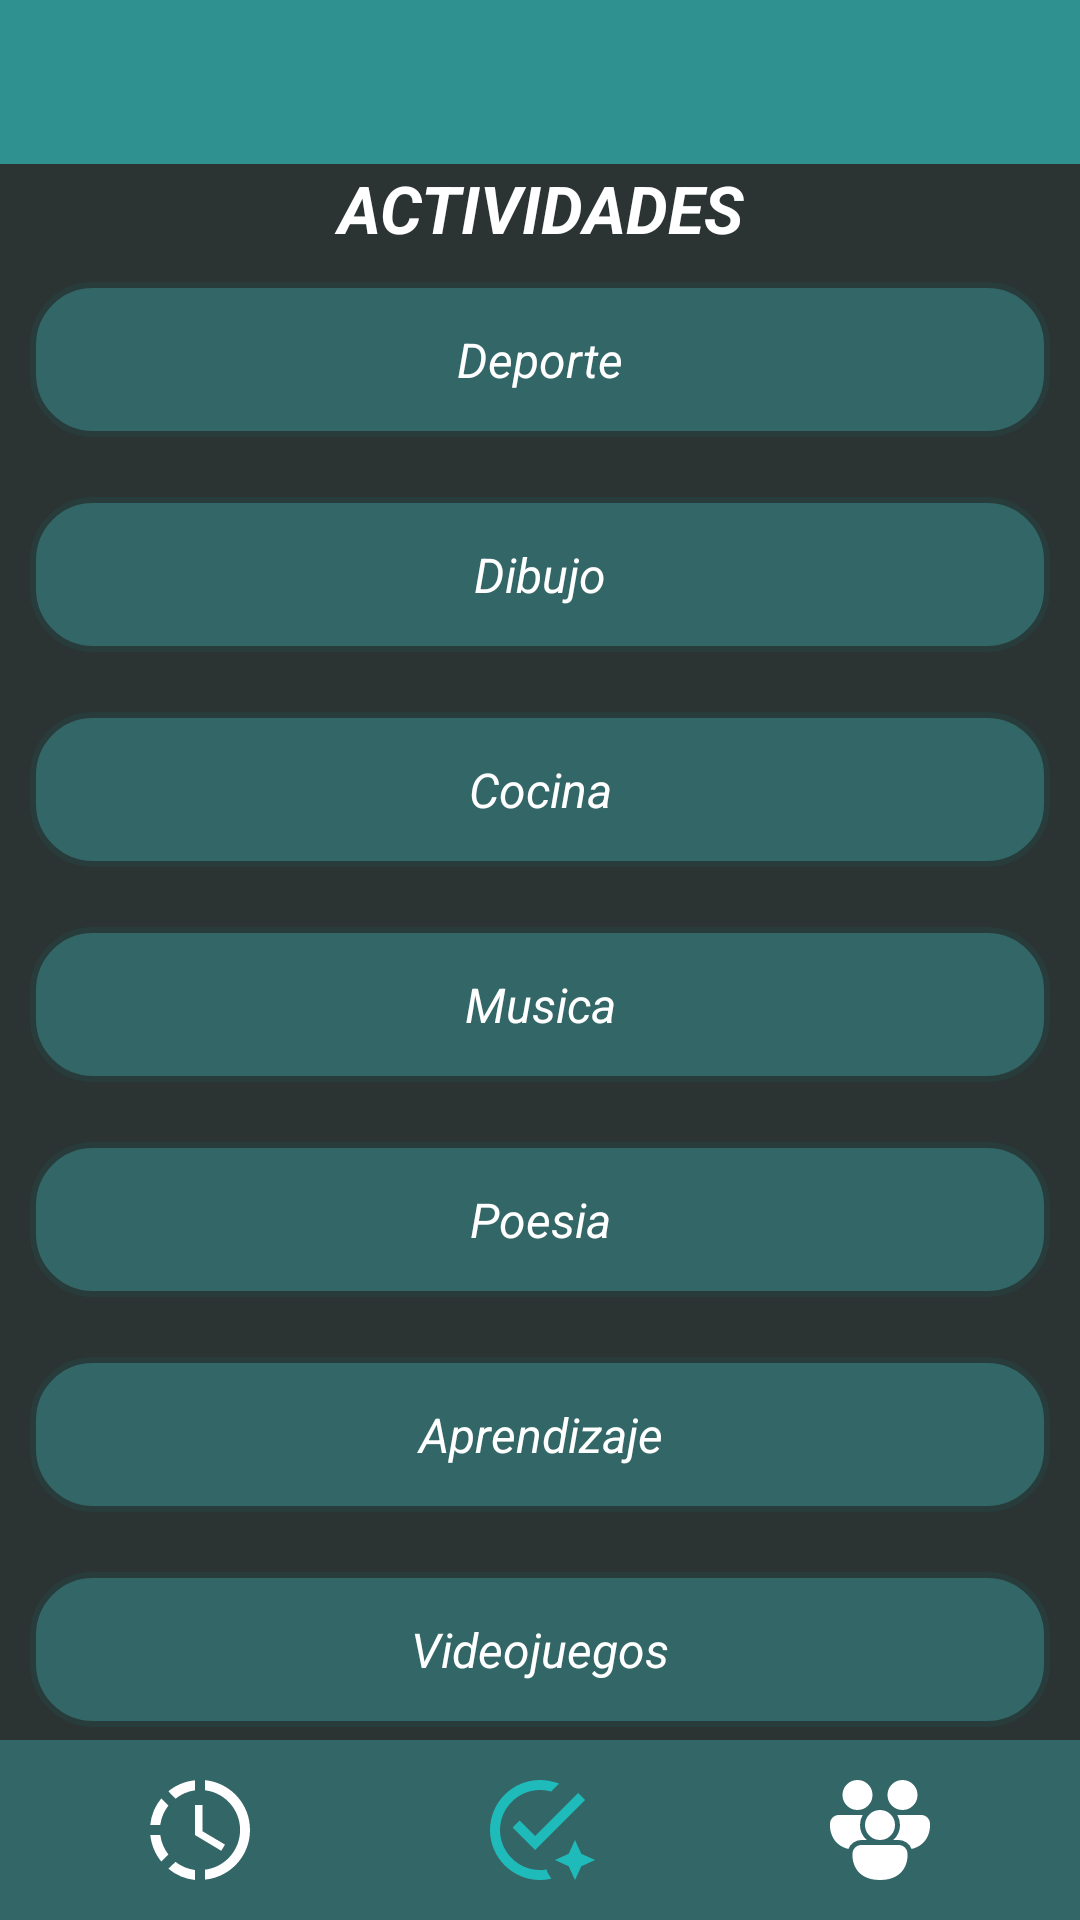

Icons on this 1080px x 1920px Android screen, each with its box as (x1, y1, x2, y2):
clock progress: (150, 1780, 250, 1880)
community: (830, 1780, 930, 1880)
task check: (490, 1780, 594, 1880)
